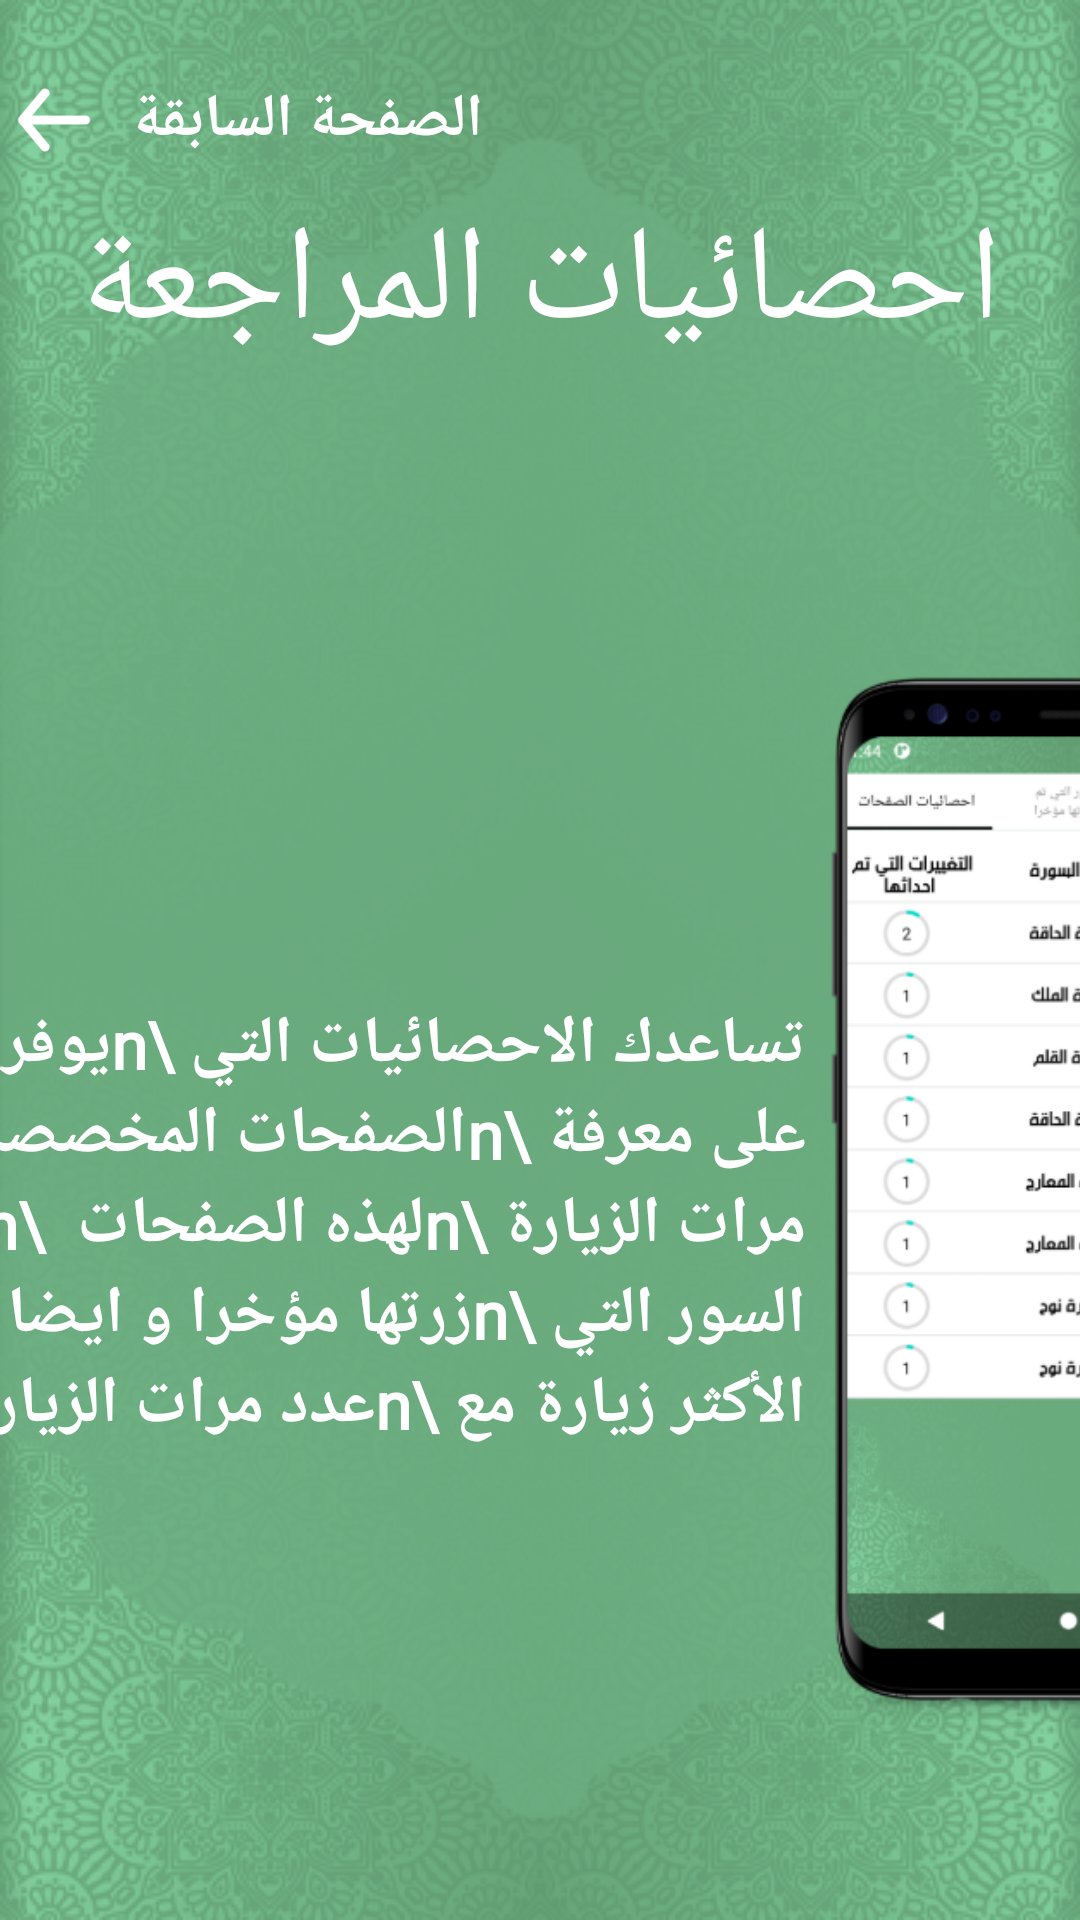

Icons on this 1080×1920 Android screen, each with the point to tap as (x=x, y=y):
arrow back: (x=45, y=113)
